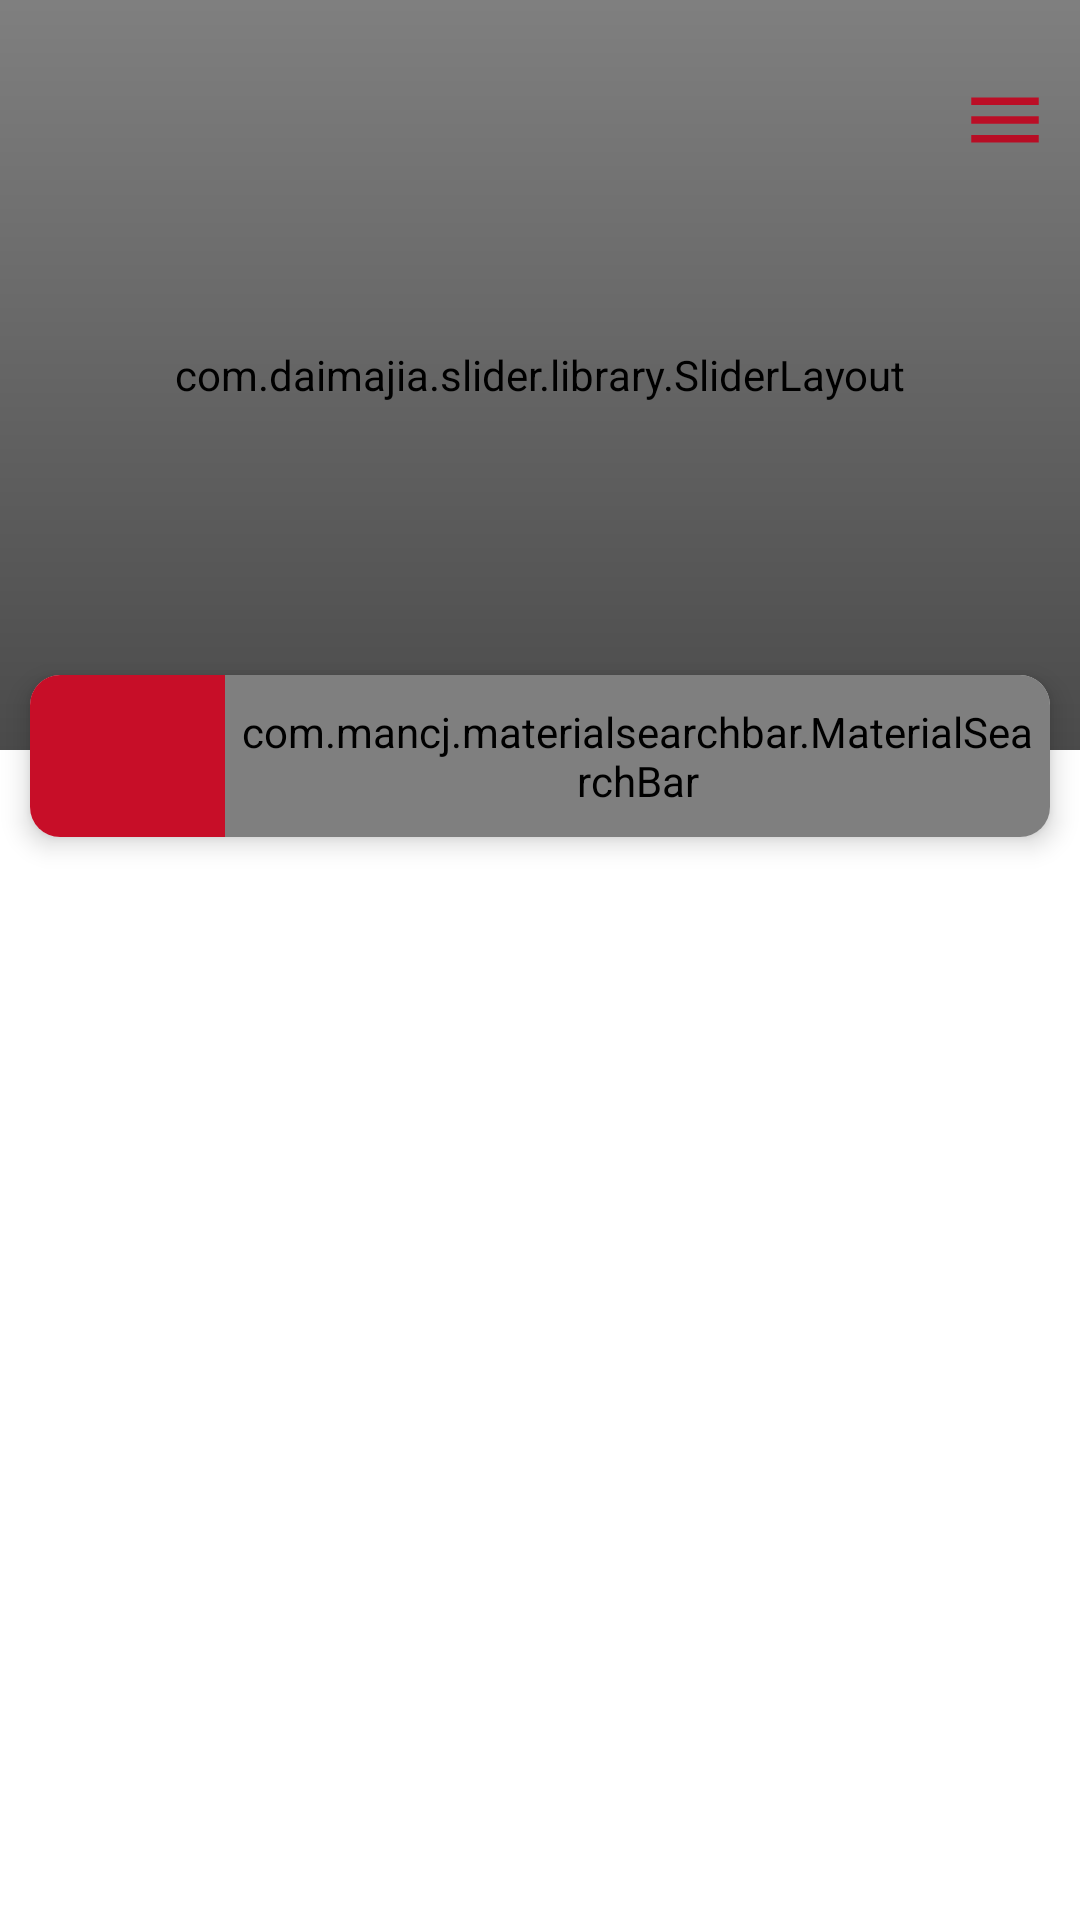

Screen size 1080x1920. Icon name, then its center in pixels as (x,y):
menu: (1005,120)
